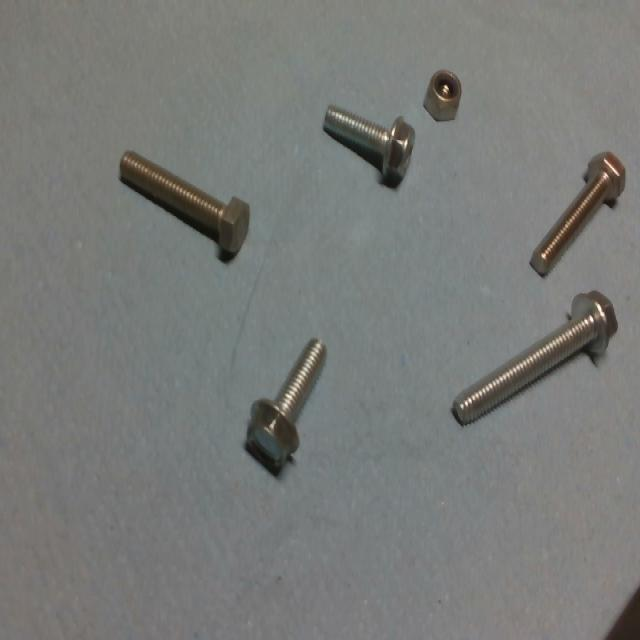Bolt: (451, 292, 617, 427), (118, 152, 250, 256), (529, 153, 626, 279), (244, 337, 327, 476), (322, 104, 414, 188)
Nut: (421, 65, 464, 124)
